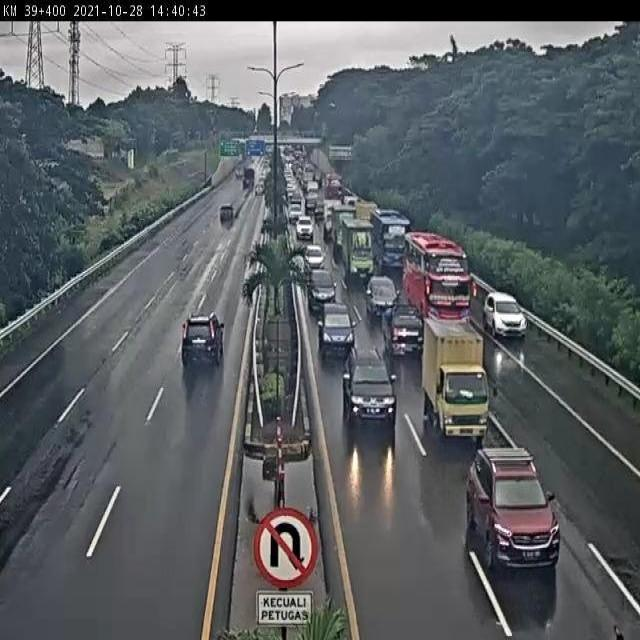Bus: (395, 208, 481, 323), (370, 209, 412, 271)
Car: (467, 445, 558, 571), (342, 349, 397, 430), (181, 310, 225, 366), (384, 302, 424, 358), (317, 302, 355, 359), (364, 275, 398, 321), (308, 269, 338, 315), (296, 216, 313, 240), (220, 204, 233, 223)
Truck: (421, 315, 487, 442), (256, 418, 310, 466), (337, 215, 374, 282), (483, 291, 527, 340), (490, 331, 526, 374), (330, 203, 359, 254), (348, 346, 383, 377), (66, 136, 100, 160), (353, 200, 378, 227), (394, 300, 422, 322), (102, 136, 125, 162), (243, 263, 259, 296), (289, 253, 307, 282), (380, 312, 392, 355), (304, 243, 324, 267), (332, 218, 344, 258), (363, 282, 377, 316), (272, 146, 286, 174), (288, 198, 304, 222), (305, 190, 319, 216), (290, 161, 304, 184), (262, 214, 276, 237), (324, 206, 334, 238), (232, 138, 247, 158), (243, 166, 255, 190), (325, 171, 341, 187), (170, 131, 185, 148), (303, 165, 315, 186), (39, 159, 61, 170), (283, 146, 297, 163), (280, 131, 306, 140), (235, 201, 247, 220), (179, 260, 191, 278), (279, 117, 291, 134), (304, 178, 314, 198), (259, 153, 270, 171), (265, 141, 278, 156), (163, 148, 179, 160), (241, 156, 252, 173), (282, 188, 291, 208), (286, 188, 296, 205), (344, 194, 357, 207), (262, 204, 270, 225), (333, 180, 343, 194), (249, 149, 263, 159), (202, 175, 212, 188), (322, 120, 328, 141), (128, 149, 134, 170), (314, 172, 322, 186), (197, 170, 208, 180), (300, 146, 308, 159), (256, 182, 264, 195), (348, 319, 358, 329), (235, 168, 243, 180), (80, 136, 88, 144), (71, 272, 79, 280), (219, 322, 224, 329), (254, 127, 258, 134)
